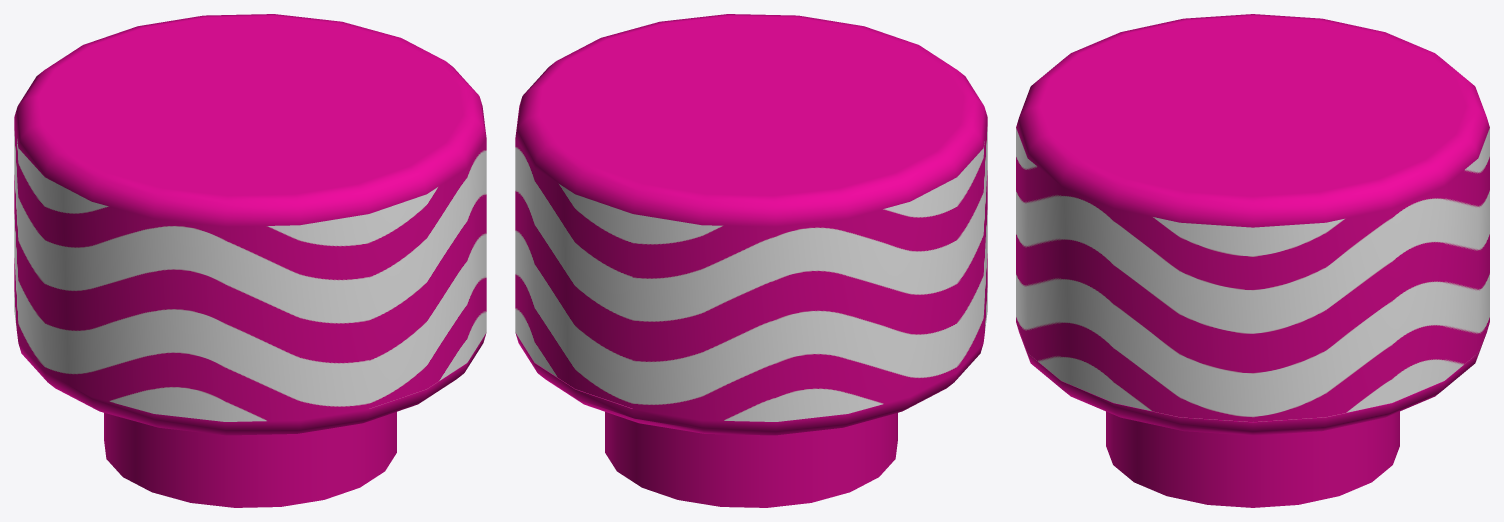
File: Rotator.fbx
3 views of the same model, side by side, from view 1: azimuth 30°, elevation 25°; view 2: azimuth 150°, elevation 25°; view 3: azimuth 270°, elevation 25° (orthographic).
Visible parts, largest first — view 1: Rotation_Stick_Main_01; view 2: Rotation_Stick_Main_01; view 3: Rotation_Stick_Main_01.
Boxes of the visible parts, x1,y1,x2,y2 form: Rotation_Stick_Main_01: (14,14,486,507); Rotation_Stick_Main_01: (515,14,987,507); Rotation_Stick_Main_01: (1016,14,1489,507).
Bounding box in the file's own units: 4.61 × 3.65 × 4.61.
